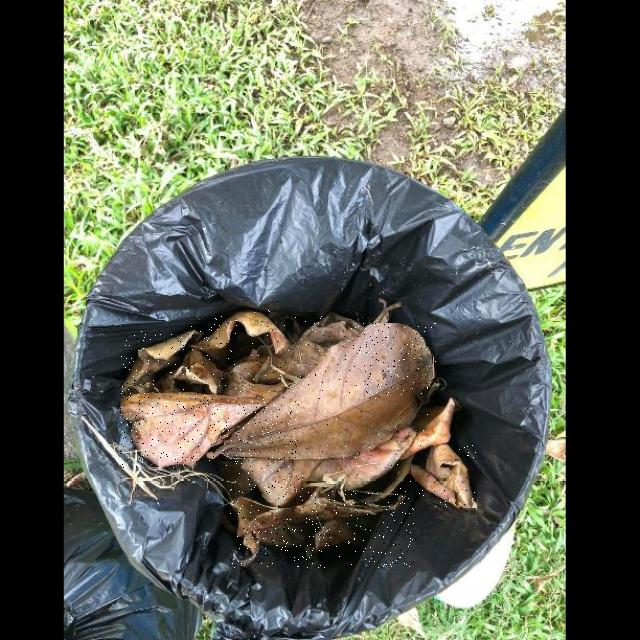biowaste: (215, 323, 436, 460), (230, 455, 414, 568), (304, 400, 455, 490), (222, 313, 364, 401), (120, 392, 278, 468), (121, 330, 203, 396), (190, 310, 290, 356), (408, 444, 476, 509), (241, 457, 326, 507), (154, 349, 232, 395)
